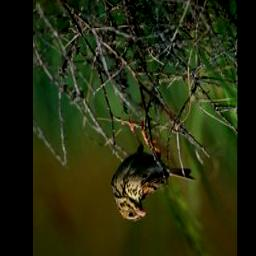Sparrow: (105, 111, 198, 223)
